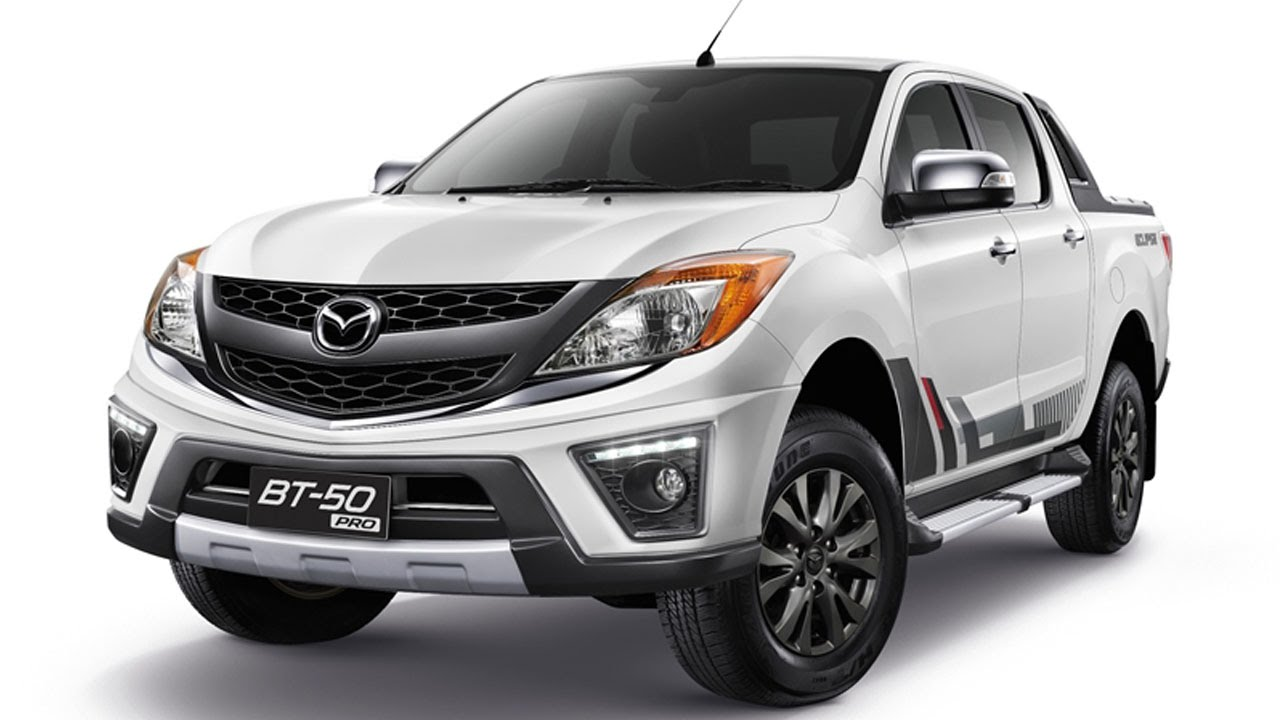pickup: (102, 53, 1177, 709)
